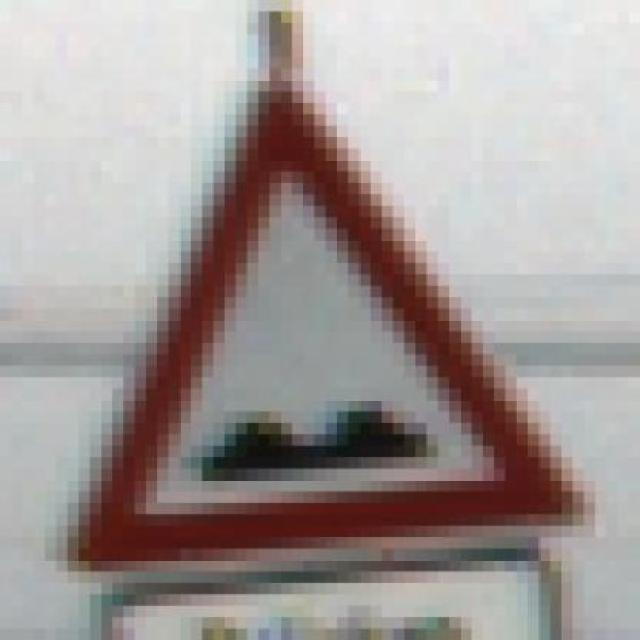Uneven Road: (79, 80, 596, 560)
